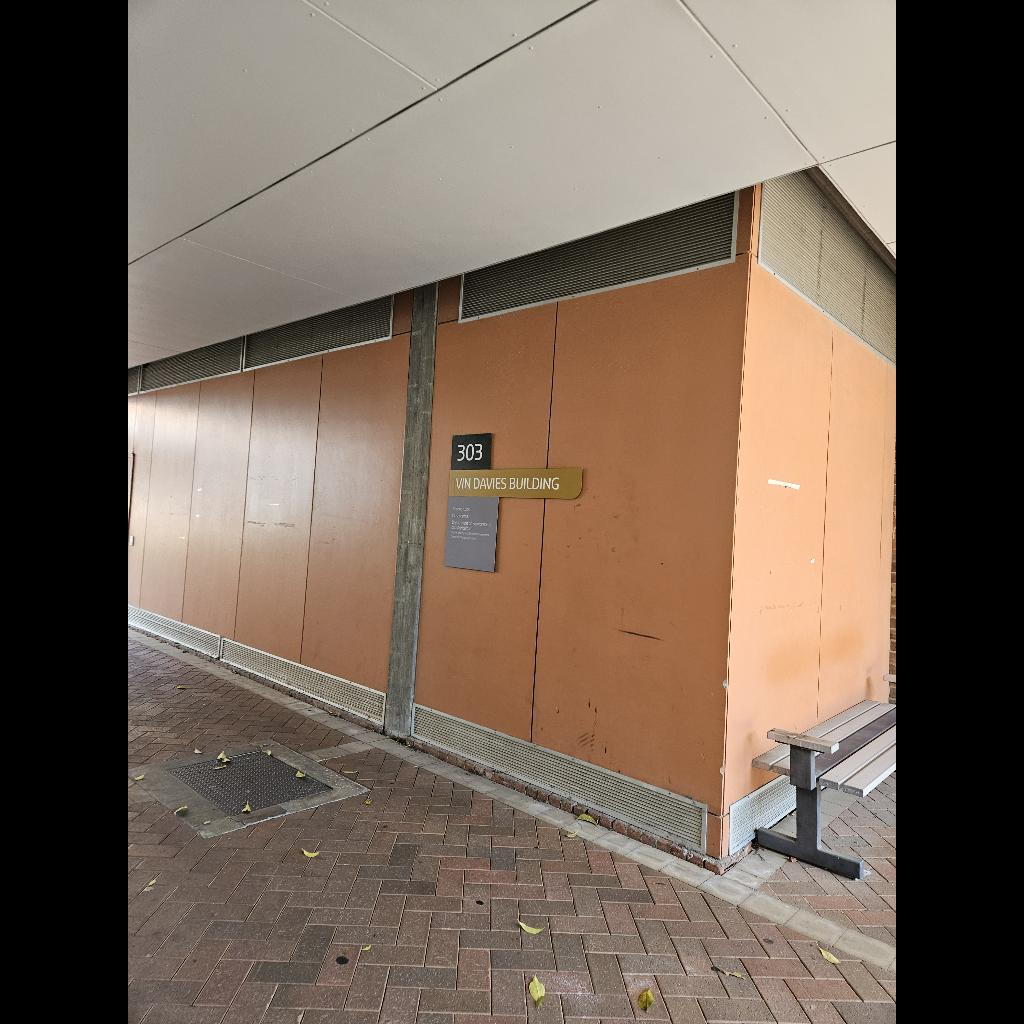BuildingCodes: (458, 443, 482, 461)
